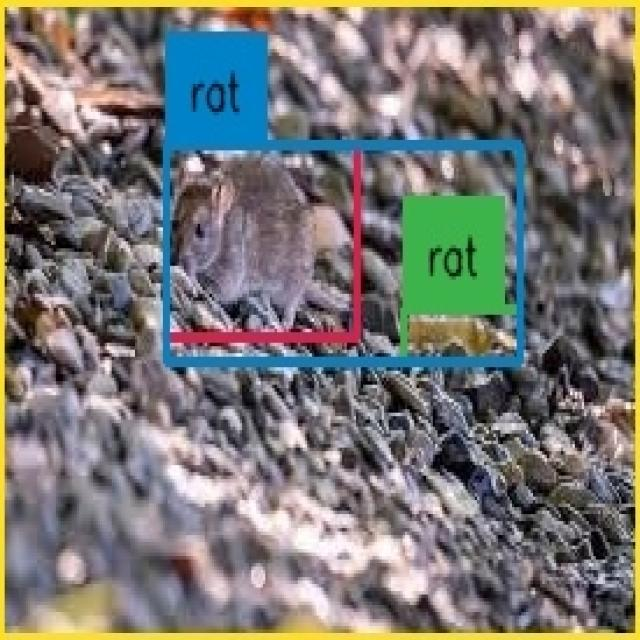rat: (1, 2, 639, 638), (167, 145, 520, 362), (166, 147, 358, 336), (403, 311, 521, 364)
